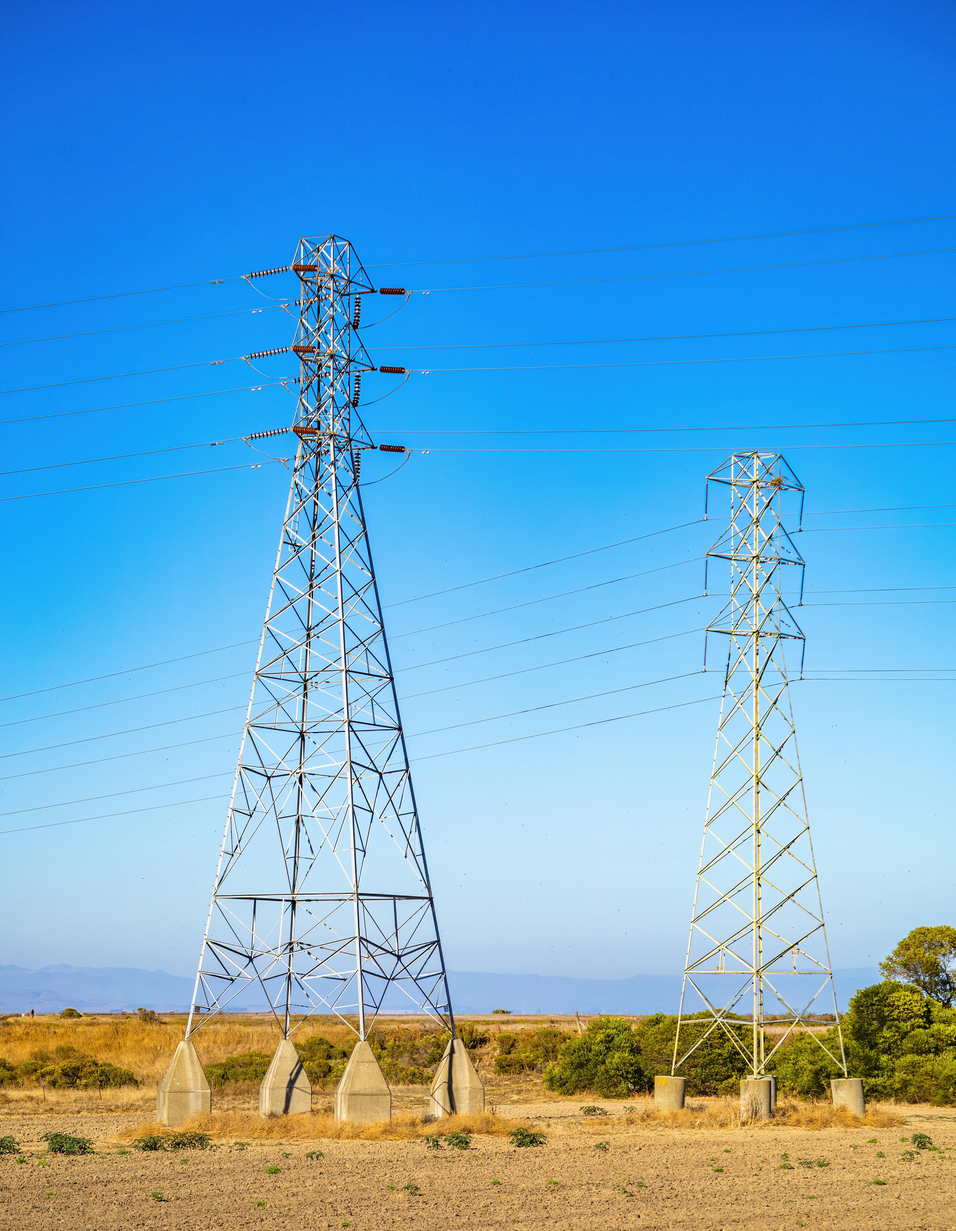insulator: (232, 340, 318, 363), (245, 259, 301, 284), (246, 425, 314, 445), (372, 357, 416, 379), (378, 439, 420, 462), (375, 287, 408, 300)
